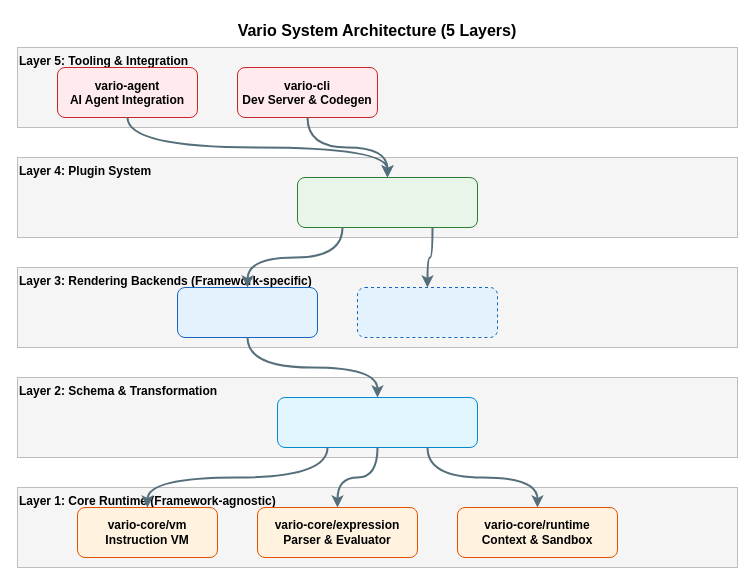
Image size: 755x585. Some labels were removed from this diagram. Each missing label, with the centre of its shape:
"vario-react React Renderer (Future)" goes at pixel 427 312.
"vario-runtime Capability Registry Plugin Loader" goes at pixel 387 202.
"vario-schema Schema DSL Validator & Transform" goes at pixel 377 422.
"vario-vue Vue 3 Renderer" goes at pixel 247 312.
